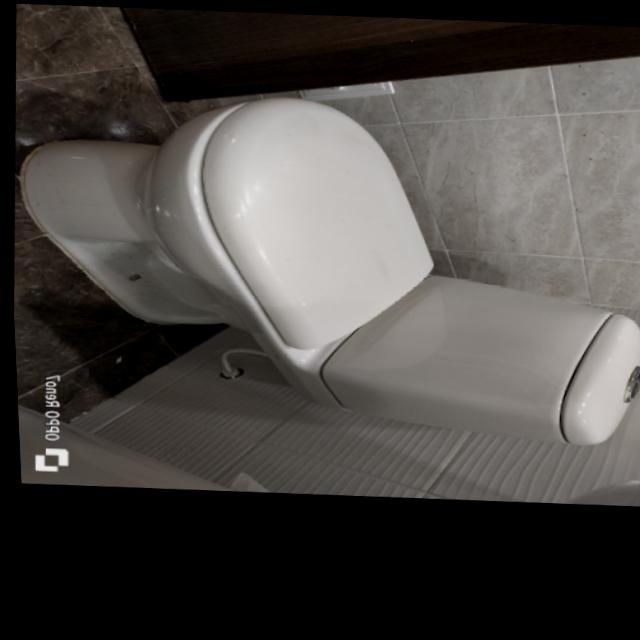toilet: (3, 80, 640, 458)
